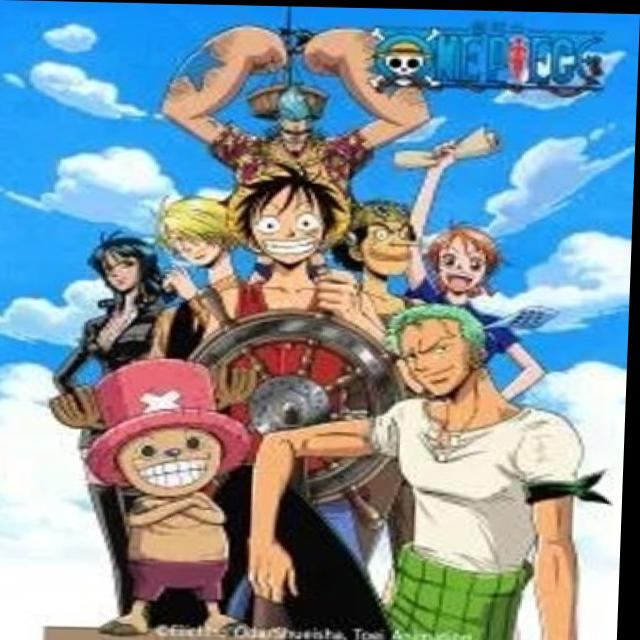Chyopa: (57, 341, 265, 640)
Franky: (267, 79, 330, 155)
Luffy: (220, 162, 350, 273)
Nami: (421, 217, 523, 299)
NicoRobin: (78, 232, 173, 310)
Sangdi: (138, 184, 240, 271)
Usopp: (339, 189, 434, 279)
Zoro: (385, 297, 498, 403)
